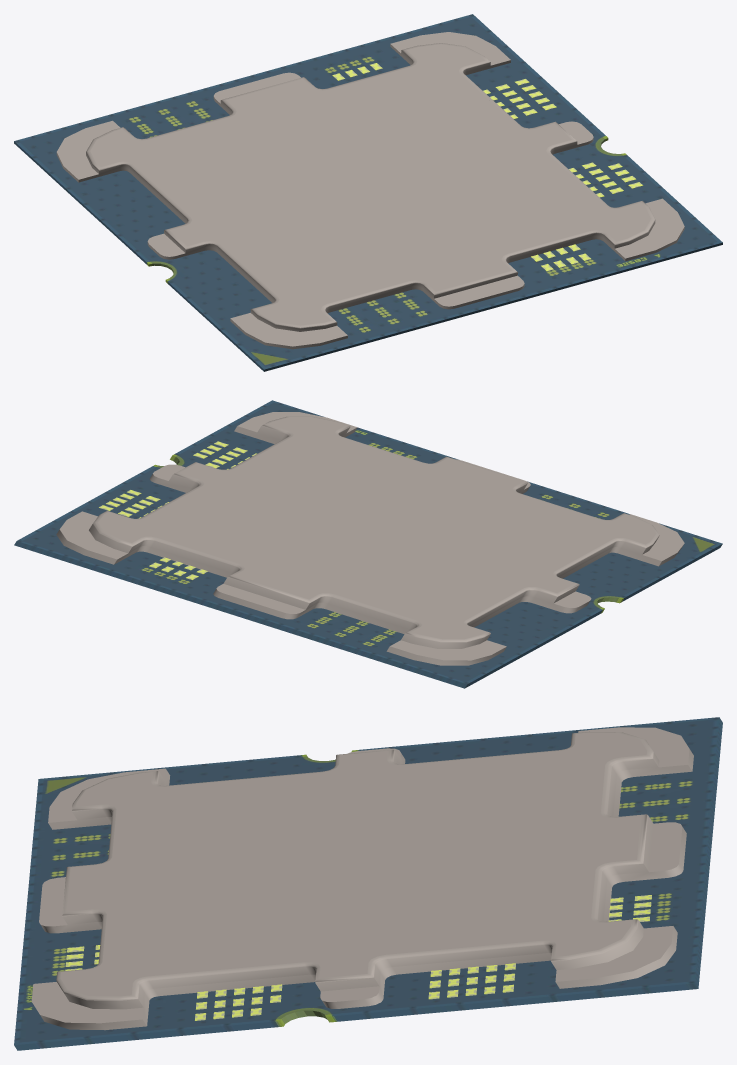
Rendered from cpu-amd-am5.glb.
3 renders of one model, top to bottom at view 1: azimuth 30°, elevation 25°; view 2: azimuth 150°, elevation 25°; view 3: azimuth 270°, elevation 25°, orthographic. The views are drawn at different scales.
Parts seen in each view (by area): view 1: body; view 2: body; view 3: body.
Part boxes in pixels (x1,y1,x2,y2): body: [14, 14, 722, 371]; body: [14, 400, 722, 688]; body: [14, 717, 722, 1050].
Bounding box in the file's own units: 0.04 × 0.0065 × 0.04.
3 materials, 2 textured.
